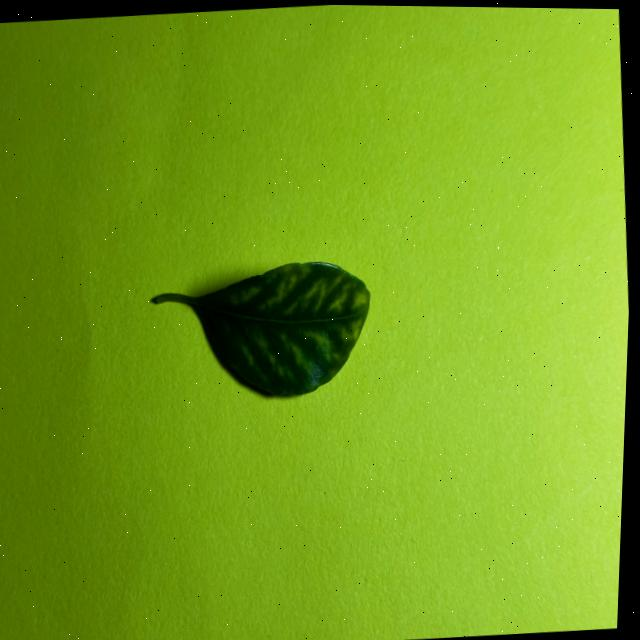greening: (152, 260, 369, 394)
